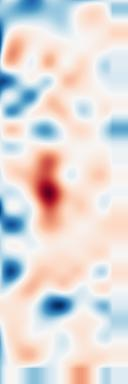filament: (30, 143, 68, 242)
